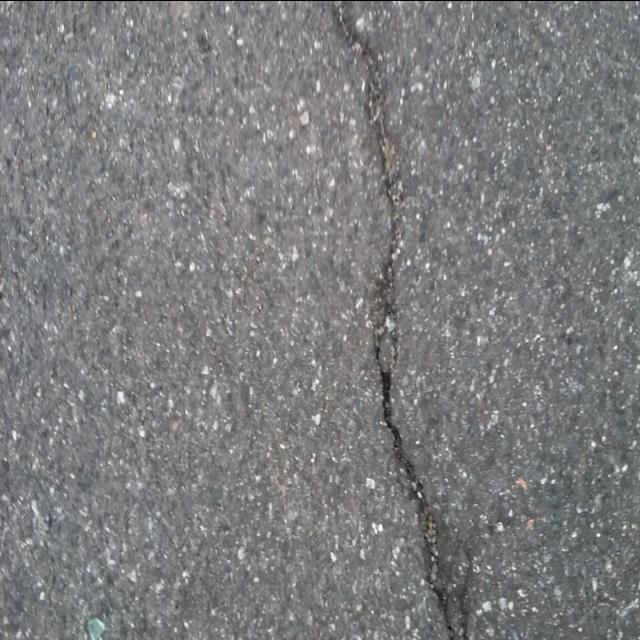Crack: (334, 0, 452, 640), (460, 543, 474, 640)
